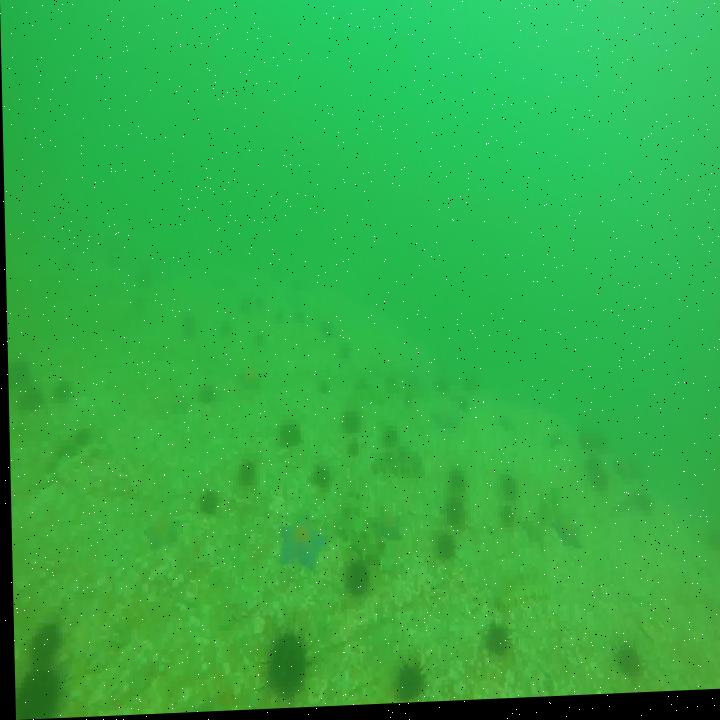echinus: (261, 630, 309, 706), (12, 661, 65, 720), (23, 623, 64, 666), (389, 665, 427, 707), (613, 645, 643, 690), (342, 557, 371, 598), (582, 453, 603, 503), (175, 309, 199, 351), (441, 469, 471, 502), (482, 626, 507, 661), (441, 500, 465, 536), (50, 377, 76, 408), (195, 488, 223, 516), (276, 423, 304, 451), (495, 479, 521, 508), (341, 408, 364, 440), (317, 312, 338, 347), (7, 363, 34, 389), (460, 369, 481, 402), (233, 458, 256, 487), (21, 378, 44, 407), (495, 503, 516, 534), (435, 535, 454, 567), (376, 424, 399, 449), (312, 466, 330, 494), (198, 382, 218, 406), (315, 374, 329, 402)
holothurian: (367, 445, 421, 479)
starfish: (274, 525, 324, 570), (362, 509, 404, 550), (143, 515, 184, 552), (234, 368, 263, 394)
